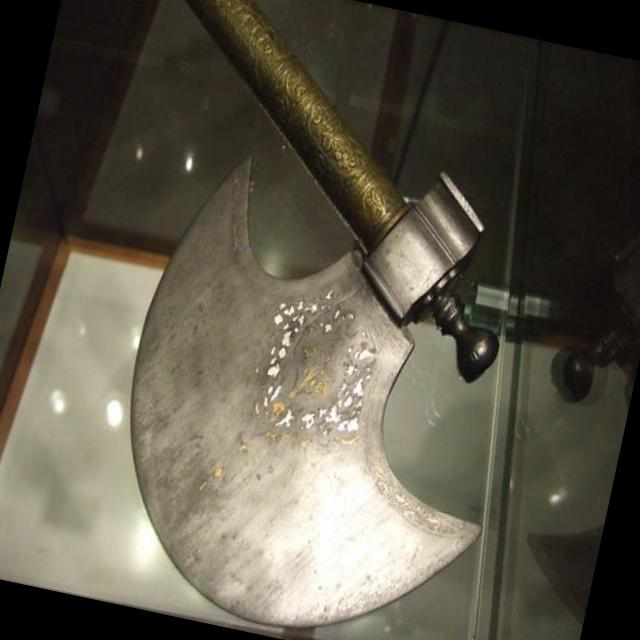Axe: (131, 0, 498, 626)
